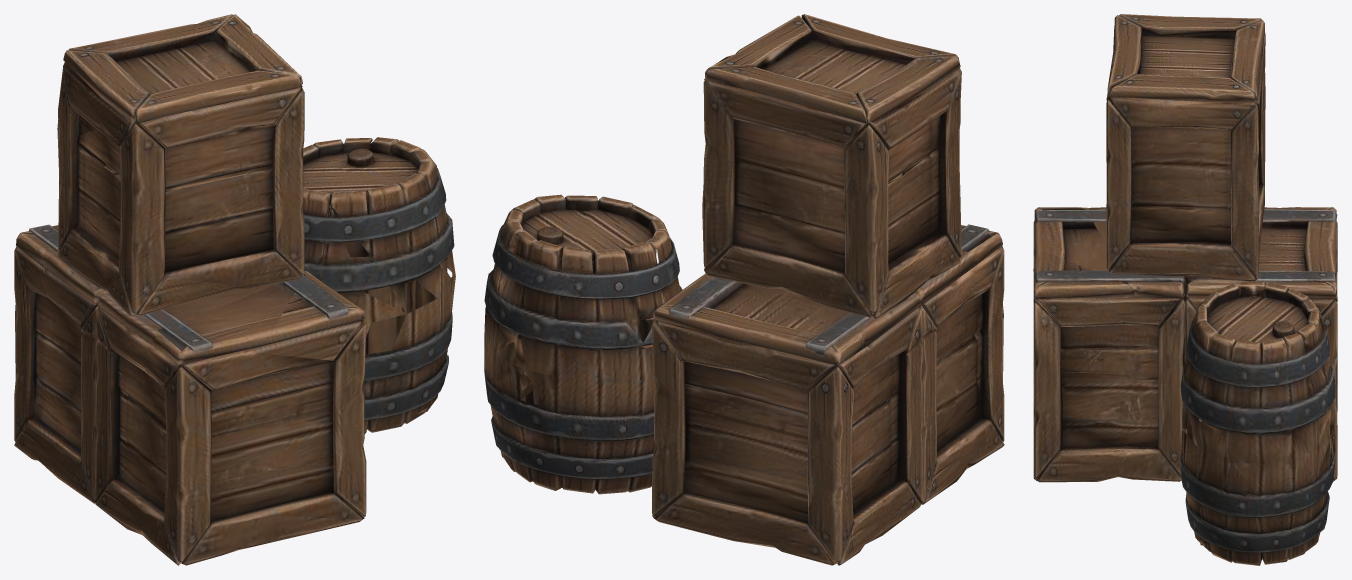
The model's file is crates.glb.
3 renders of one model, left to right at view 1: azimuth 30°, elevation 25°; view 2: azimuth 150°, elevation 25°; view 3: azimuth 270°, elevation 25°, orthographic. The views are drawn at different scales.
Visible parts, largest first — view 1: crates; view 2: crates; view 3: crates.
Part boxes in pixels (x1,y1,x2,y2): crates: (14, 14, 455, 565); crates: (484, 14, 1004, 565); crates: (1033, 14, 1337, 565).
Bounding box in the file's own units: 0.9754 × 1.02 × 0.7193.
Materials: 1 (1 with a texture image).
